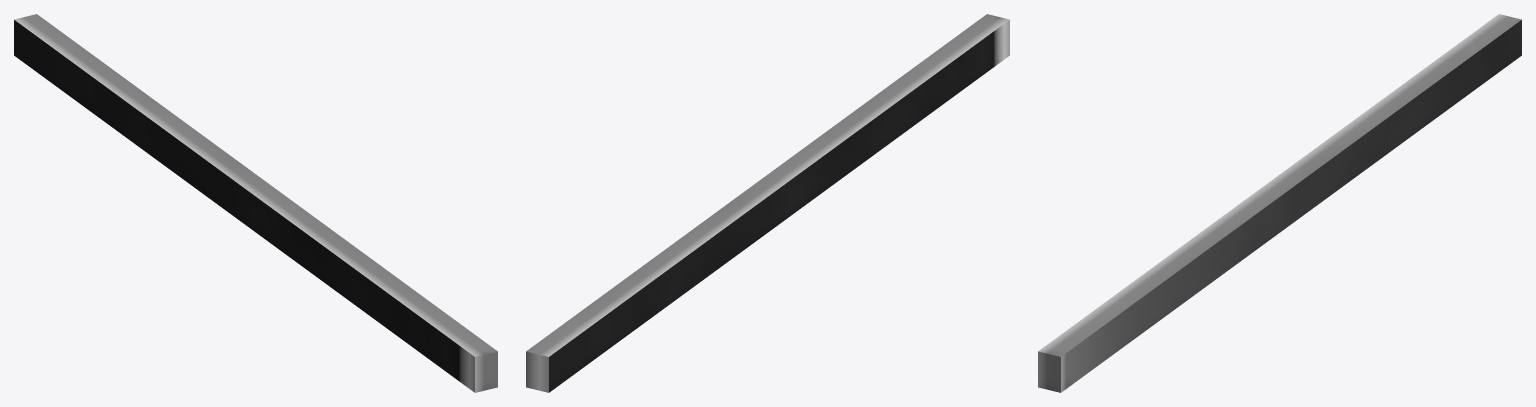
The model's file is original-36.obj.
The picture shows the model from 3 angles, left to right: view 1: azimuth 30°, elevation 25°; view 2: azimuth 150°, elevation 25°; view 3: azimuth 330°, elevation 25°; orthographic projection.
Visible parts, largest first — view 1: Group36/mesh71/mesh71-geometry#mesh71-geometry; view 2: Group36/mesh71/mesh71-geometry#mesh71-geometry; view 3: Group36/mesh71/mesh71-geometry#mesh71-geometry.
Part boxes in pixels (x1,y1,x2,y2): Group36/mesh71/mesh71-geometry#mesh71-geometry: (14, 14, 497, 392); Group36/mesh71/mesh71-geometry#mesh71-geometry: (526, 14, 1009, 392); Group36/mesh71/mesh71-geometry#mesh71-geometry: (1038, 14, 1521, 392).
Size of the model in its own units: 0.0131 by 0.0196 by 0.4568.
